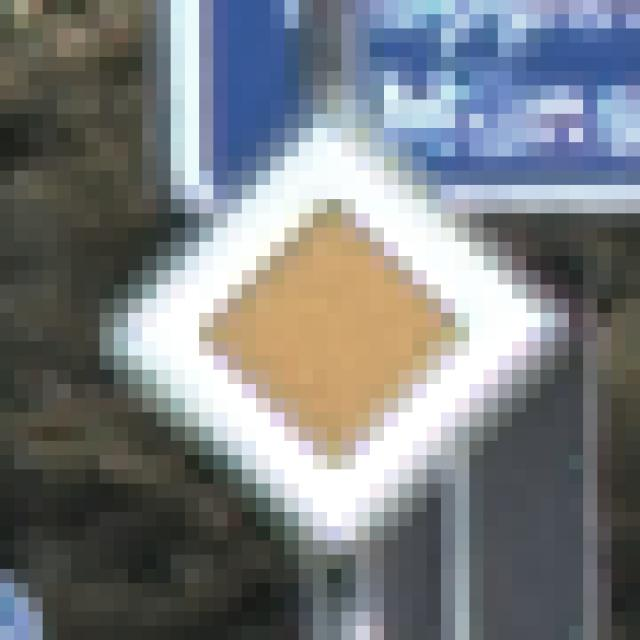Main Road: (72, 86, 570, 570)
